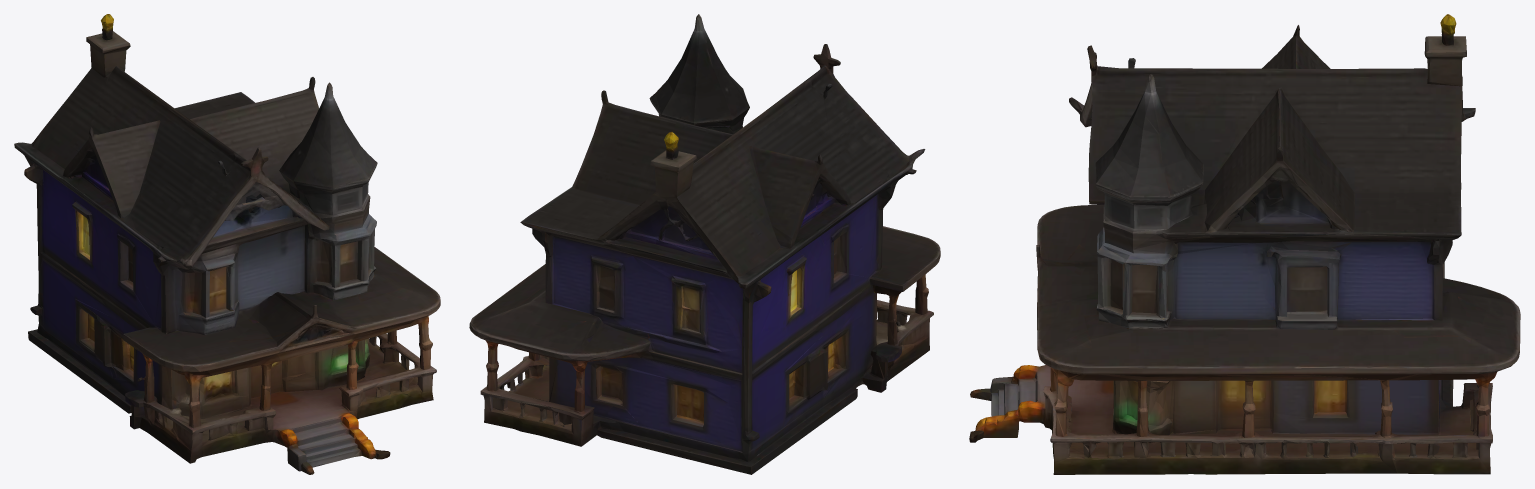
The model's file is house_victorian_halloween.glb.
3 renders of one model, left to right at view 1: azimuth 30°, elevation 25°; view 2: azimuth 150°, elevation 25°; view 3: azimuth 270°, elevation 25°, orthographic. The views are drawn at different scales.
Visible parts, largest first — view 1: geometry_0; view 2: geometry_0; view 3: geometry_0.
Boxes of the visible parts, <box> form: geometry_0: <box>14,14,440,474</box>; geometry_0: <box>469,14,940,474</box>; geometry_0: <box>969,14,1520,474</box>.
Bounding box in the file's own units: 0.7017 × 0.7635 × 0.9999.
Materials: 1 (1 with a texture image).
